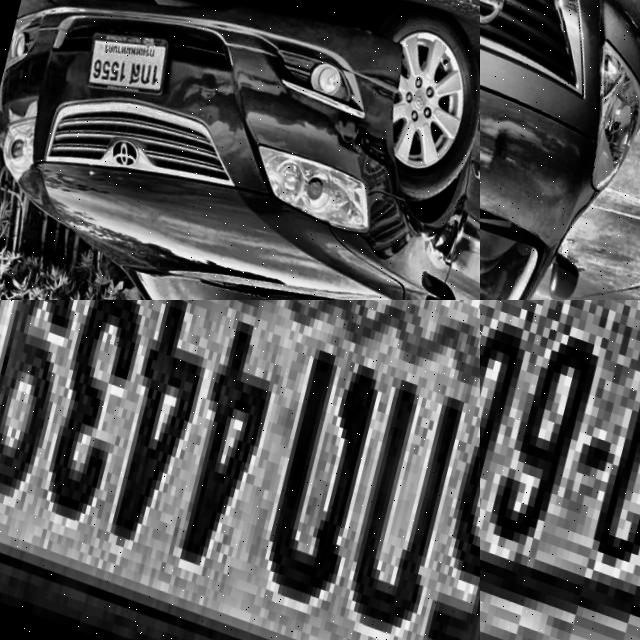license-plate: (0, 300, 480, 640), (480, 300, 640, 640), (73, 6, 184, 115)
